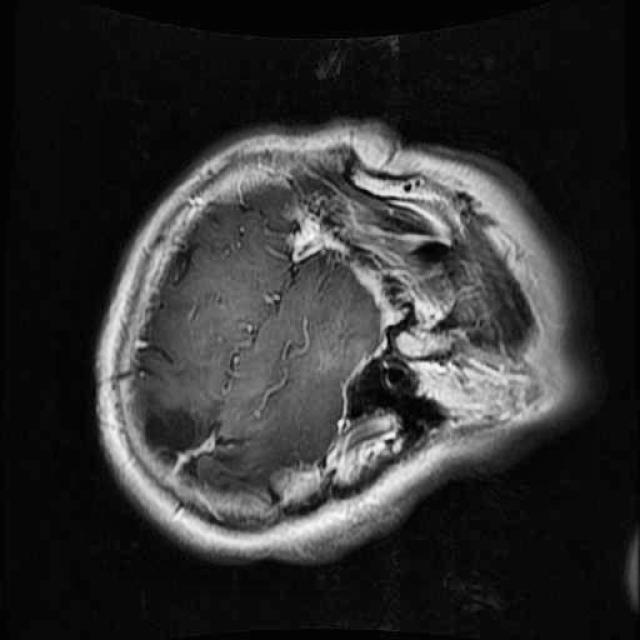Tumor: (117, 381, 253, 493)
